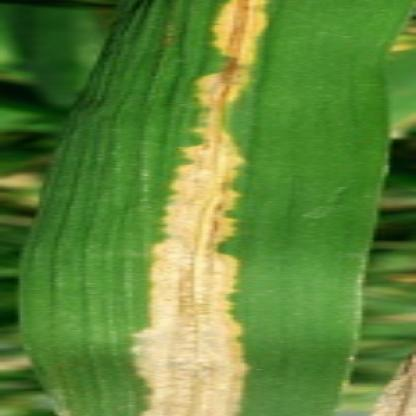Blight: (117, 1, 281, 416)
